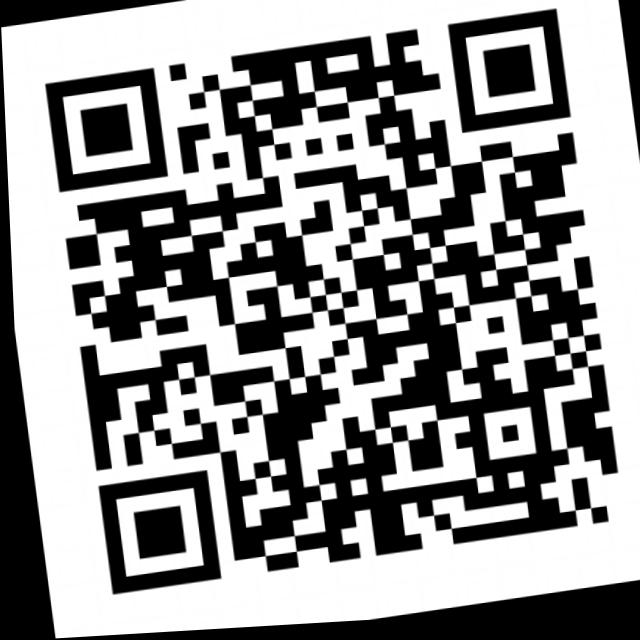QR_CODE: (18, 0, 635, 611)
